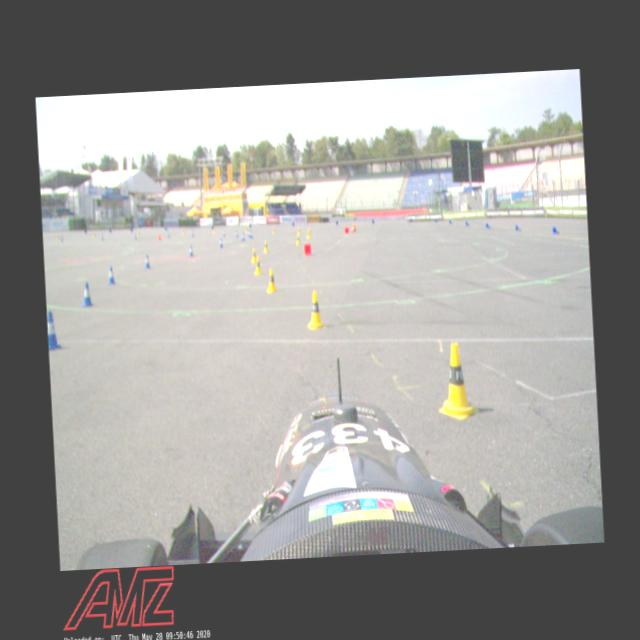blue_cone: (46, 310, 62, 350), (80, 280, 94, 308), (106, 264, 116, 284), (144, 253, 150, 269), (187, 244, 194, 256), (218, 236, 224, 248), (514, 223, 522, 232), (552, 227, 560, 236), (234, 230, 239, 238), (241, 234, 245, 242), (250, 230, 253, 239), (222, 230, 225, 238), (248, 229, 251, 237)
orange_cone: (157, 233, 165, 240)
yellow_cone: (435, 341, 480, 422), (305, 290, 326, 330), (266, 267, 278, 294), (254, 256, 262, 275), (250, 248, 258, 263), (262, 240, 268, 252), (296, 233, 300, 246), (272, 226, 276, 235), (297, 227, 301, 236), (306, 230, 310, 239), (308, 228, 312, 235), (245, 225, 248, 234)
